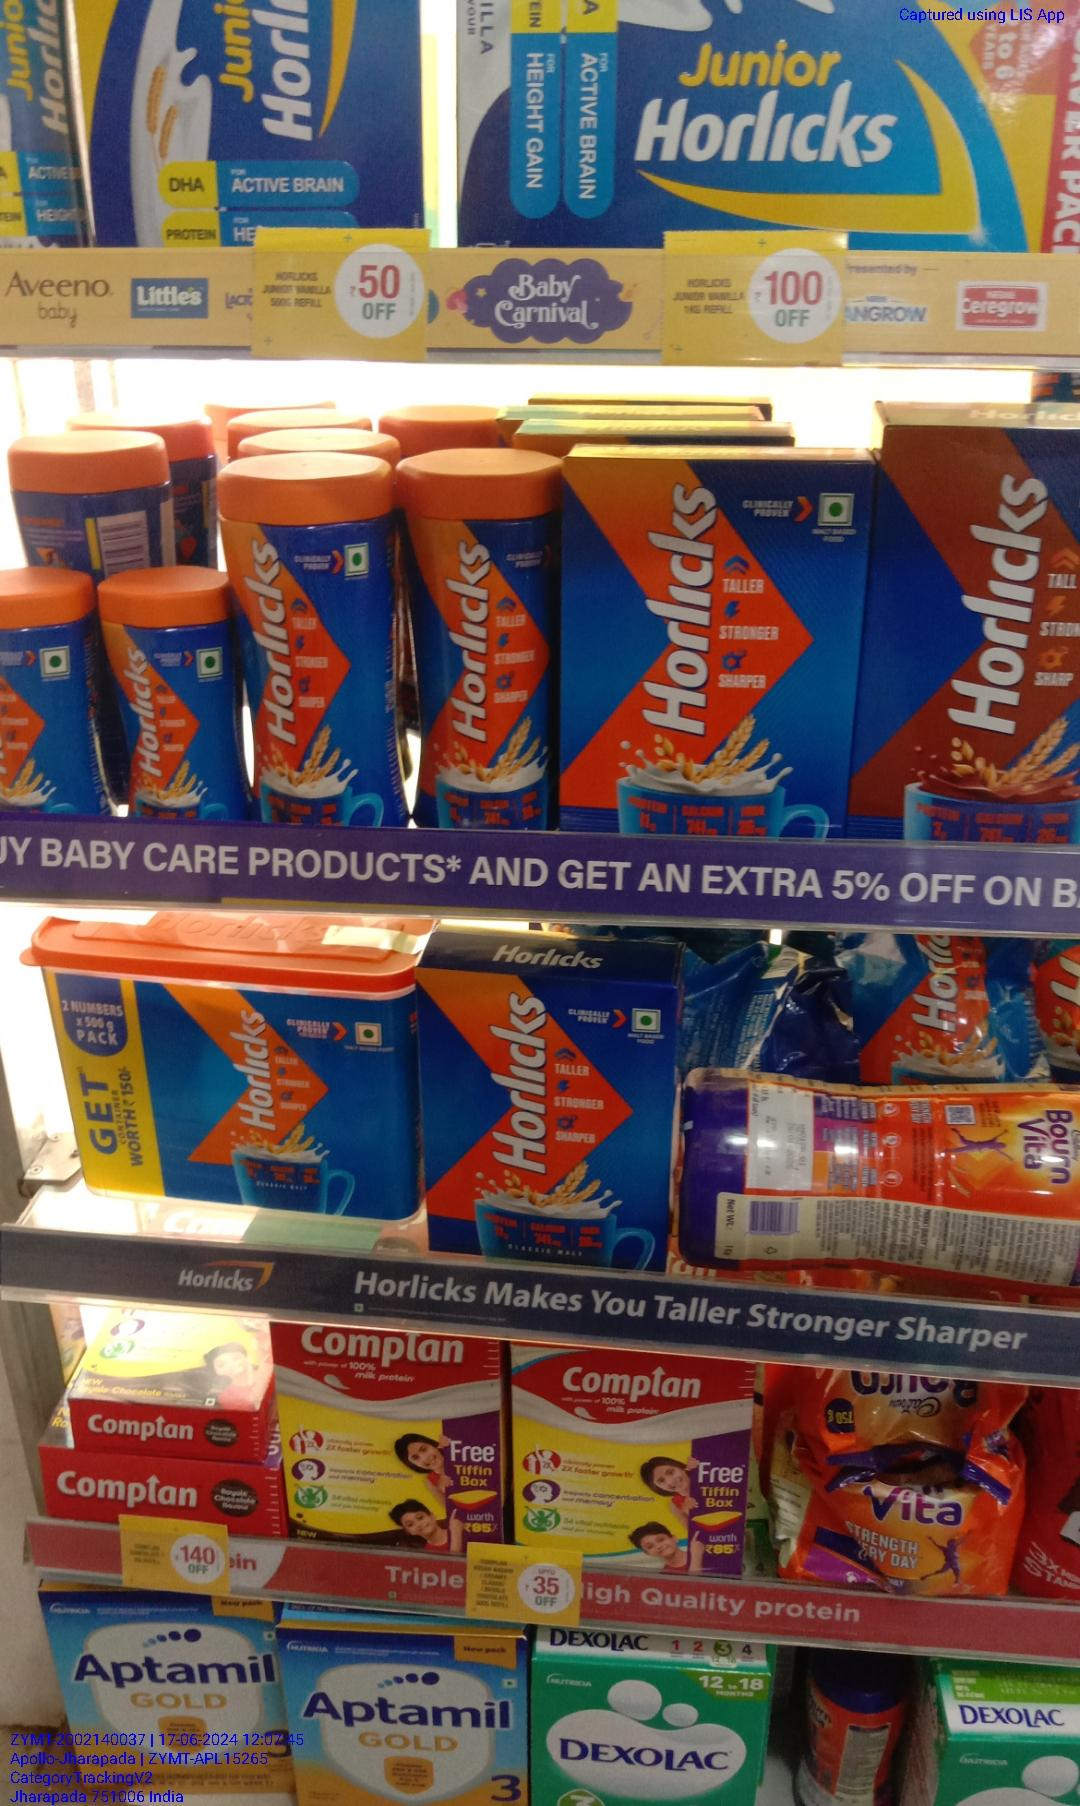COMPLAN_CHOCOLATE_500_GMS_PACK: (282, 1324, 499, 1537)
COMPLAN_CREAMY_CLASSIC_500_G_PACK: (516, 1347, 744, 1560)
HORLICK_CLASSIC_MALT_200_G_JAR: (109, 576, 237, 821)
HORLICK_CLASSIC_MALT_500_G_JAR: (408, 461, 552, 836), (246, 478, 400, 823)
HORLICK_CLASSIC_MALT_500_G_PACK: (561, 459, 840, 834), (419, 972, 670, 1273)
HORLICK_MALT_1_KG_CONTAINER: (41, 942, 408, 1235)
